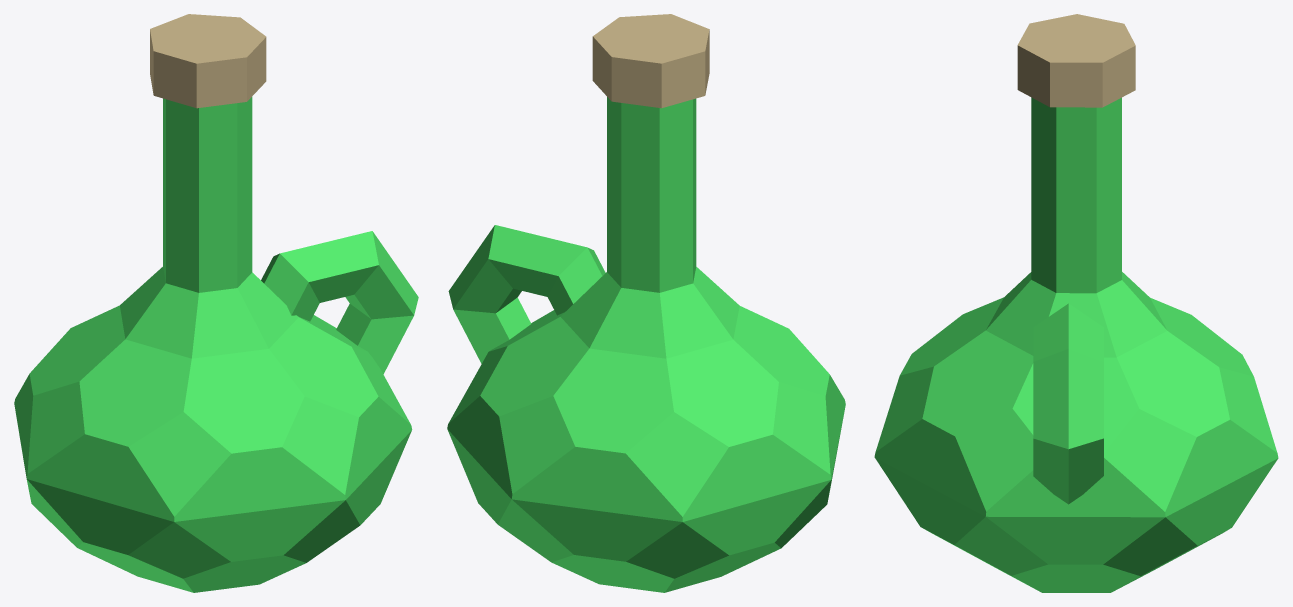
Rendered from HandlePotion.015.fbx.
3 views of the same model, side by side, from view 1: azimuth 30°, elevation 25°; view 2: azimuth 150°, elevation 25°; view 3: azimuth 270°, elevation 25° (orthographic).
Parts seen in each view (by area): view 1: HandlePotion.015; view 2: HandlePotion.015; view 3: HandlePotion.015.
Boxes of the visible parts, bbox=[...] form: HandlePotion.015: bbox=[14, 14, 418, 592]; HandlePotion.015: bbox=[447, 14, 845, 592]; HandlePotion.015: bbox=[874, 14, 1278, 592].
Size of the model in its own units: 14.76 by 18.99 by 13.29.
